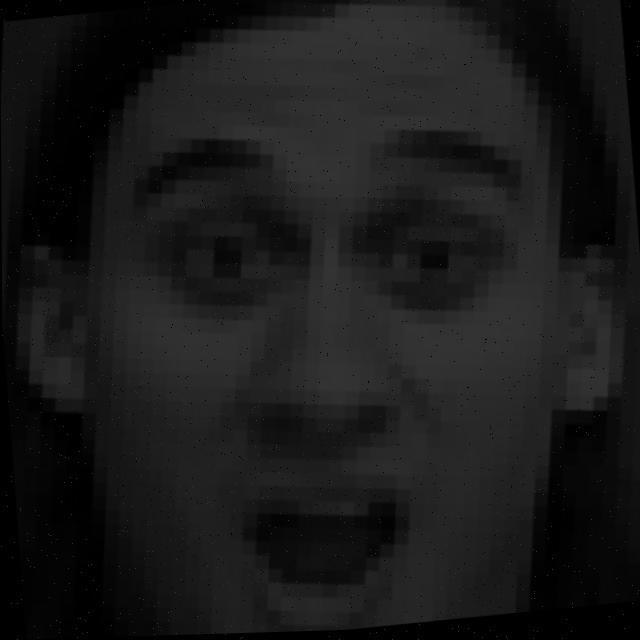Surprised: (42, 76, 609, 614)
